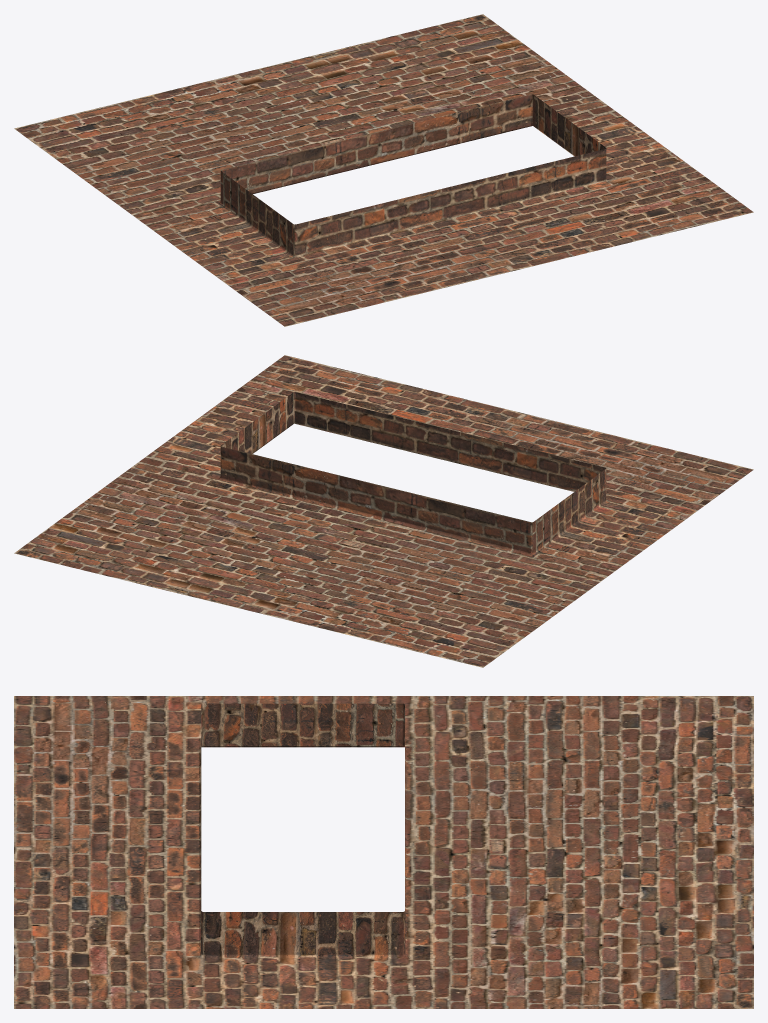
The model's file is wall_window_centered_large_03.gltf.
3 views of the same model, one above another, from view 1: azimuth 30°, elevation 25°; view 2: azimuth 150°, elevation 25°; view 3: azimuth 270°, elevation 25° (orthographic). The views are drawn at different scales.
Parts seen in each view (by area): view 1: wall_window_centered_large_03; view 2: wall_window_centered_large_03; view 3: wall_window_centered_large_03.
Part boxes in pixels (x1,y1,x2,y2): wall_window_centered_large_03: (14, 14, 753, 326); wall_window_centered_large_03: (14, 355, 753, 667); wall_window_centered_large_03: (14, 696, 753, 1008).
Size of the model in its own units: 3 by 0.2 by 3.
Materials: 1 (1 with a texture image).
